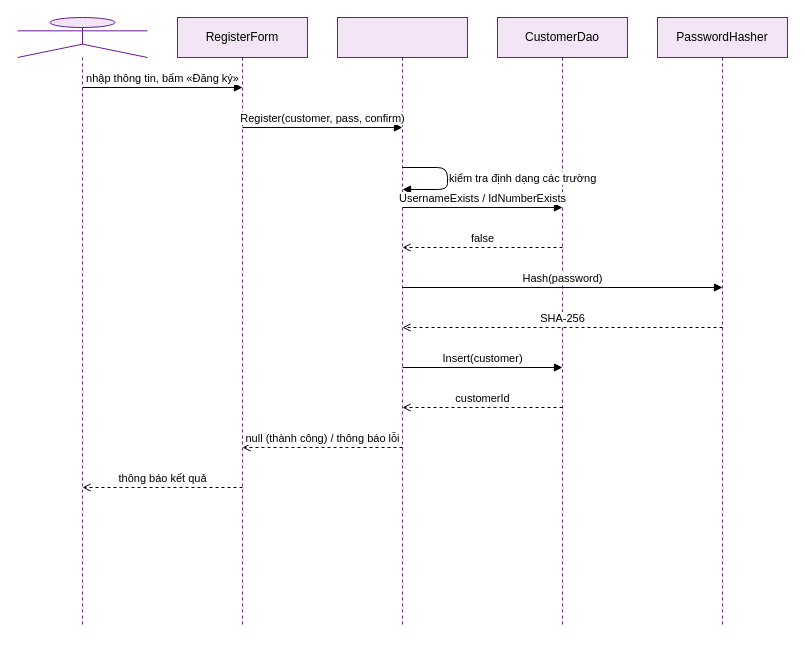
This 805x645 diagram has some shape labels left out. The box of each missing label's shape, as (x1, y1, x2, y2) in pixels:
AuthService: (336, 16, 468, 628)
Khách hàng: (16, 16, 148, 628)
